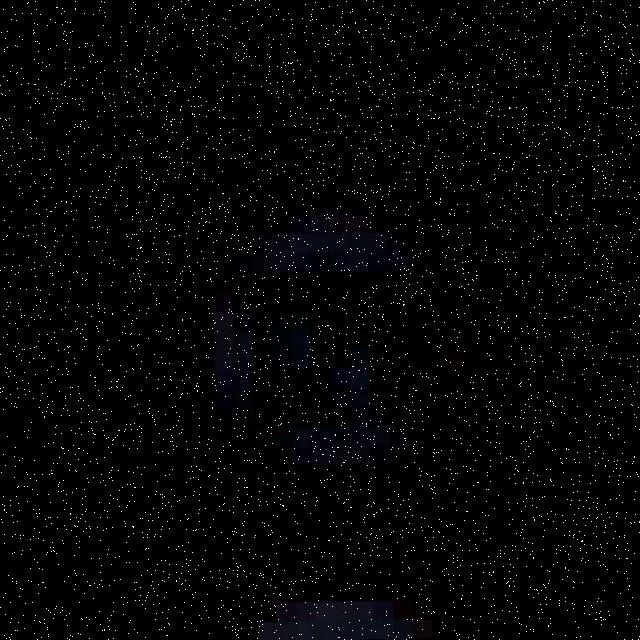Ograniczenie predkosci do 120: (158, 168, 508, 524)
